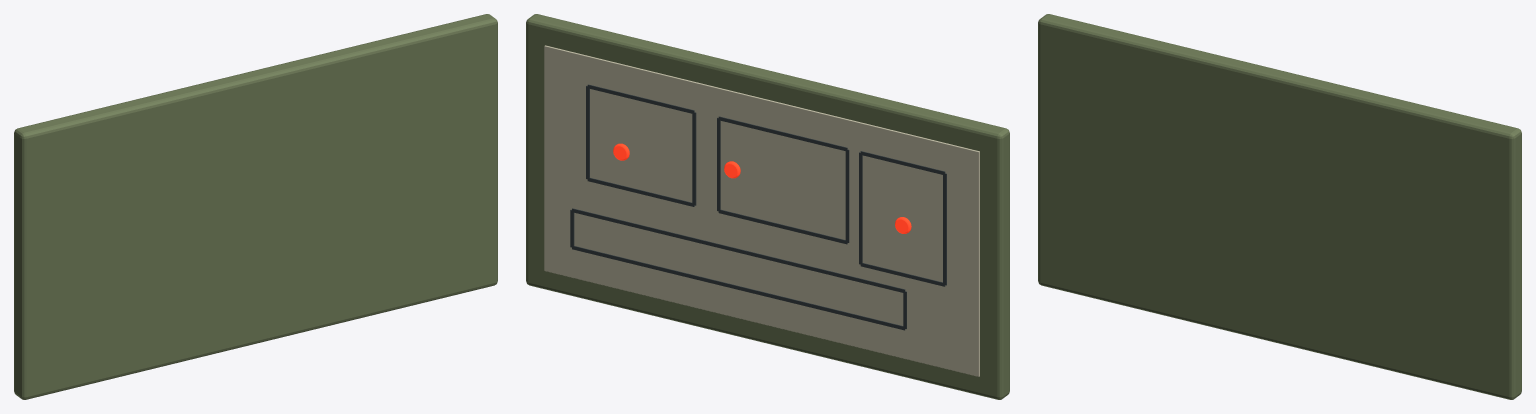
File: command_board.glb
3 views of the same model, side by side, from view 1: azimuth 30°, elevation 25°; view 2: azimuth 150°, elevation 25°; view 3: azimuth 330°, elevation 25° (orthographic).
Parts seen in each view (by area): view 1: command_board; view 2: command_board; view 3: command_board.
Part boxes in pixels (<box>): command_board: <box>14,14,497,399</box>; command_board: <box>526,14,1009,399</box>; command_board: <box>1038,14,1521,399</box>.
Bounding box in the file's own units: 2.15 × 1.15 × 0.12.
